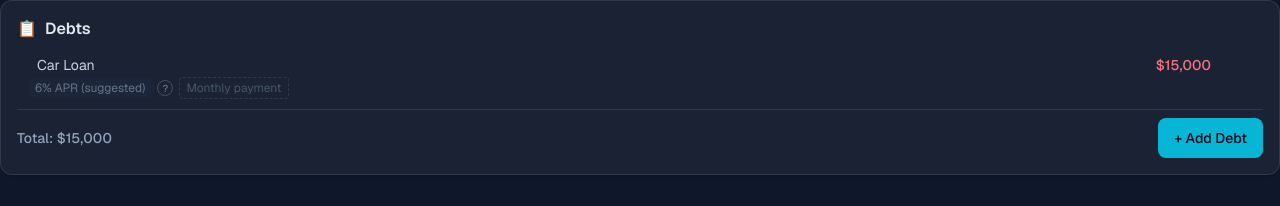
Test case: Debt interest rate and payment UI › allows editing interest rate via click
Step 1. Click the button with test id "interest-badge-d1" → {"x": 90, "y": 88}, box left=29, top=78, right=151, bottom=98
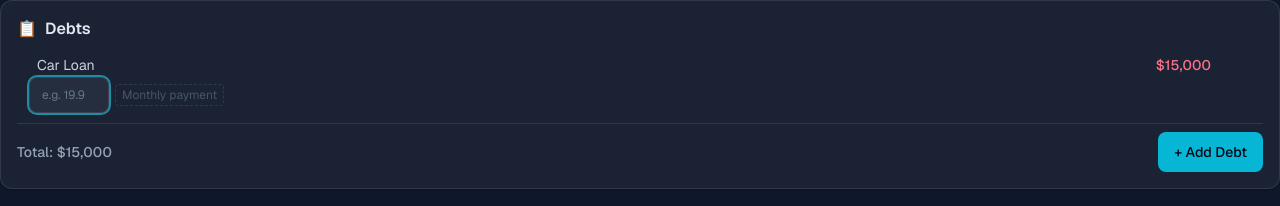
Result: the field named "Edit interest rate for Car Loan" is shown
Step 2. Type "5.5" into the field named "Edit interest rate for Car Loan" → {"x": 69, "y": 95}, box left=29, top=77, right=109, bottom=113
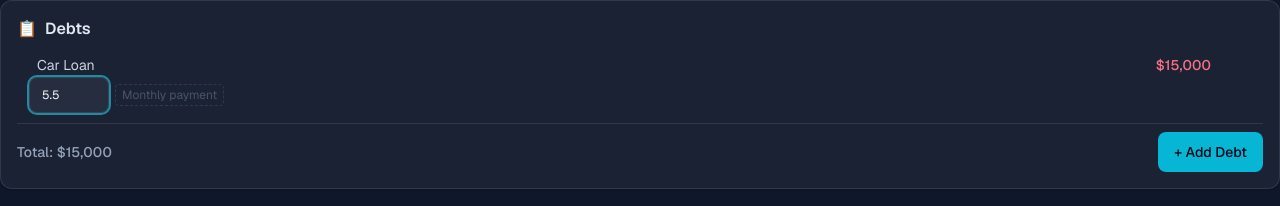
Step 3. Press Enter
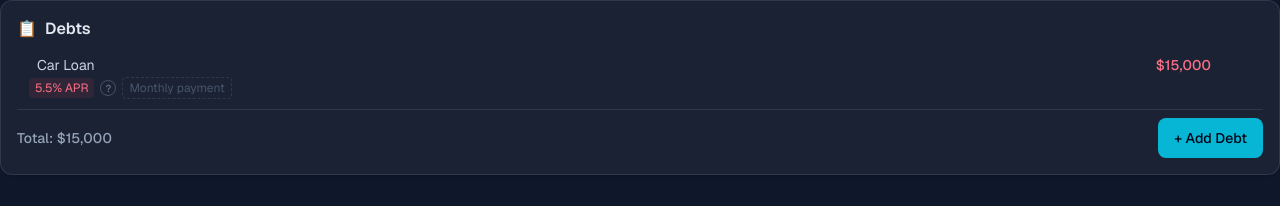
Result: the button with test id "interest-badge-d1" does not show "suggested" at left=29, top=78, right=94, bottom=98
Result: the button with test id "interest-badge-d1" reads "5.5% APR" at left=29, top=78, right=94, bottom=98
